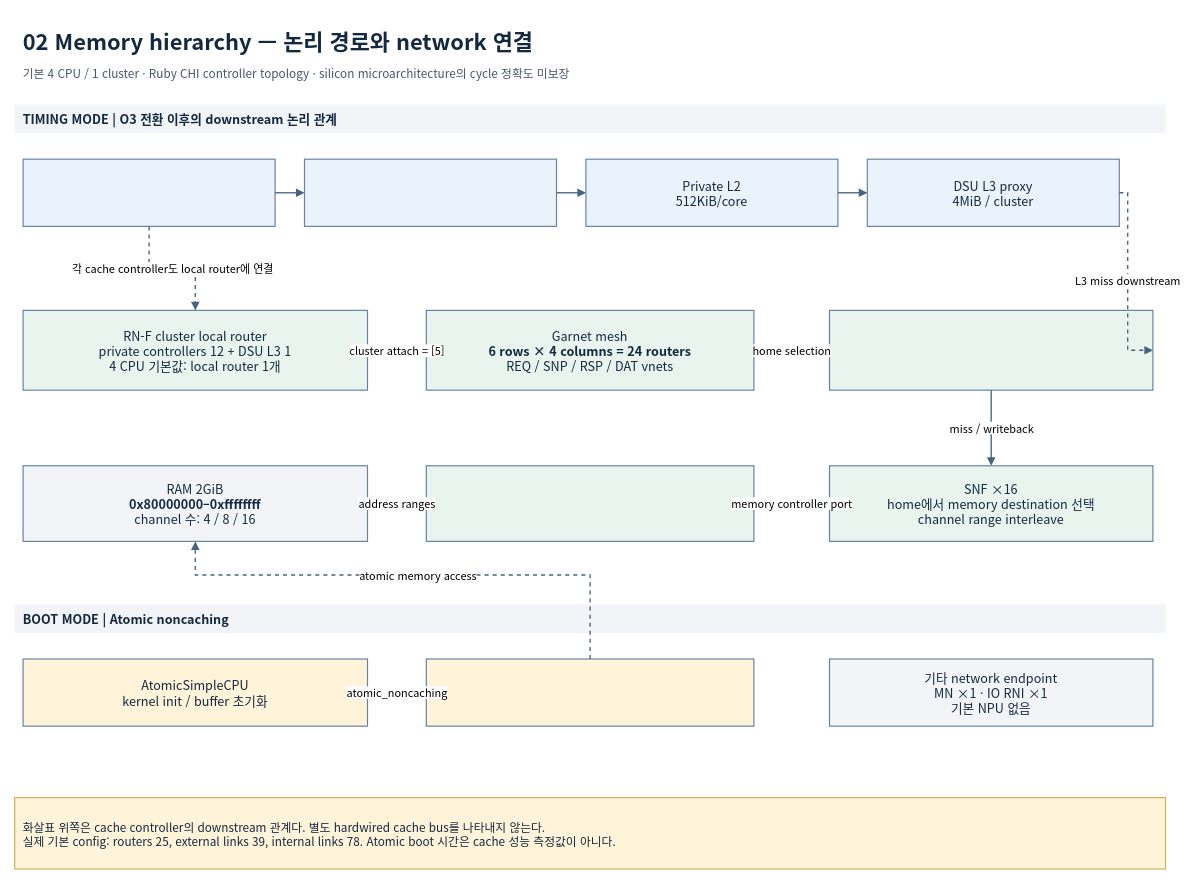
This 1194x884 diagram has some shape labels left out. Each missing label, with the centre of its shape:
HNF ×8 SLC proxy 512KiB/home 총 4MiB · directory / home: the point at 990,349
L1I / L1D 64KiB/core 각각: the point at 430,192
MemCtrl ×16 LPDDR5X documented proxy part = null: the point at 589,503
O3 CPU ×4 instruction / data ports: the point at 148,192
RubyPort::recvAtomic() bypassCaches() → MemCtrl timing network queue 우회: the point at 589,692
